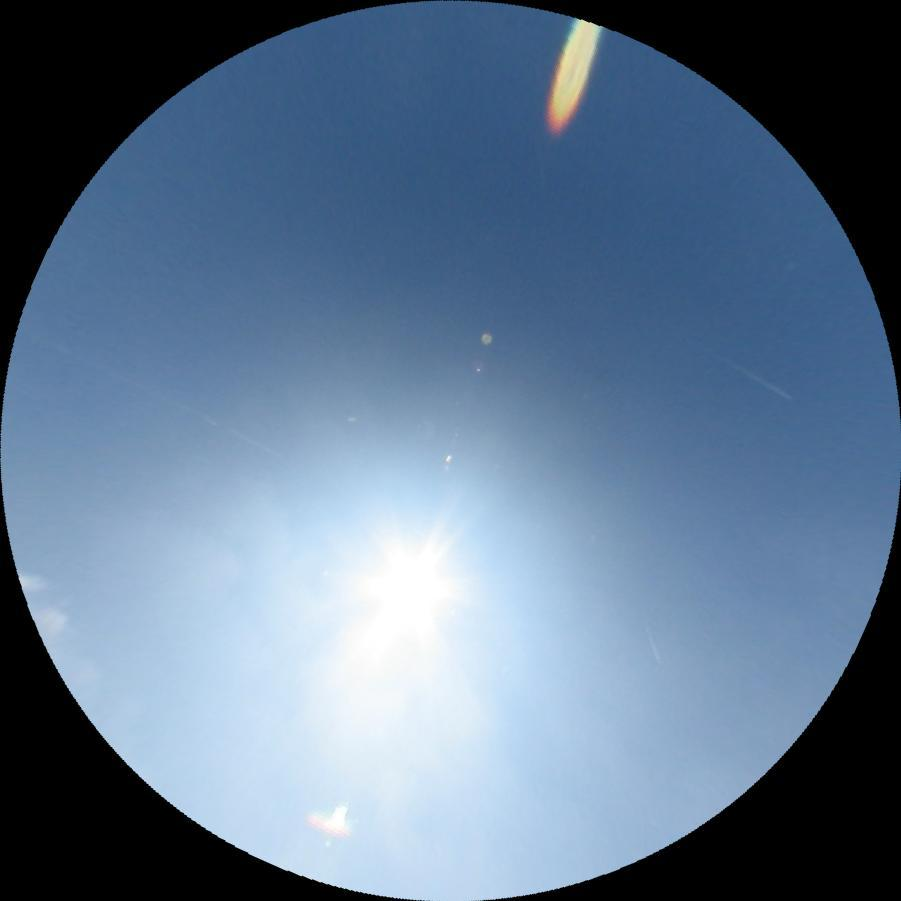contrail young: (690, 337, 792, 400), (640, 618, 660, 661), (534, 137, 545, 183)
parasite: (16, 321, 284, 458)
sun: (358, 538, 458, 646)
